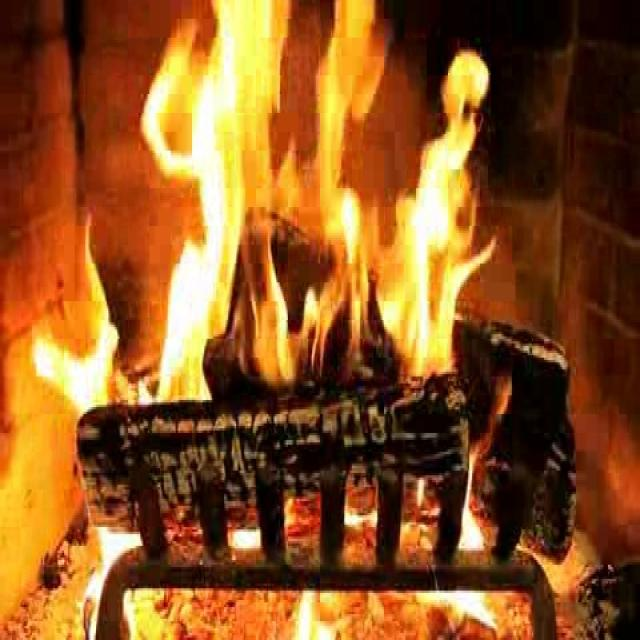fire: (144, 0, 484, 407)
